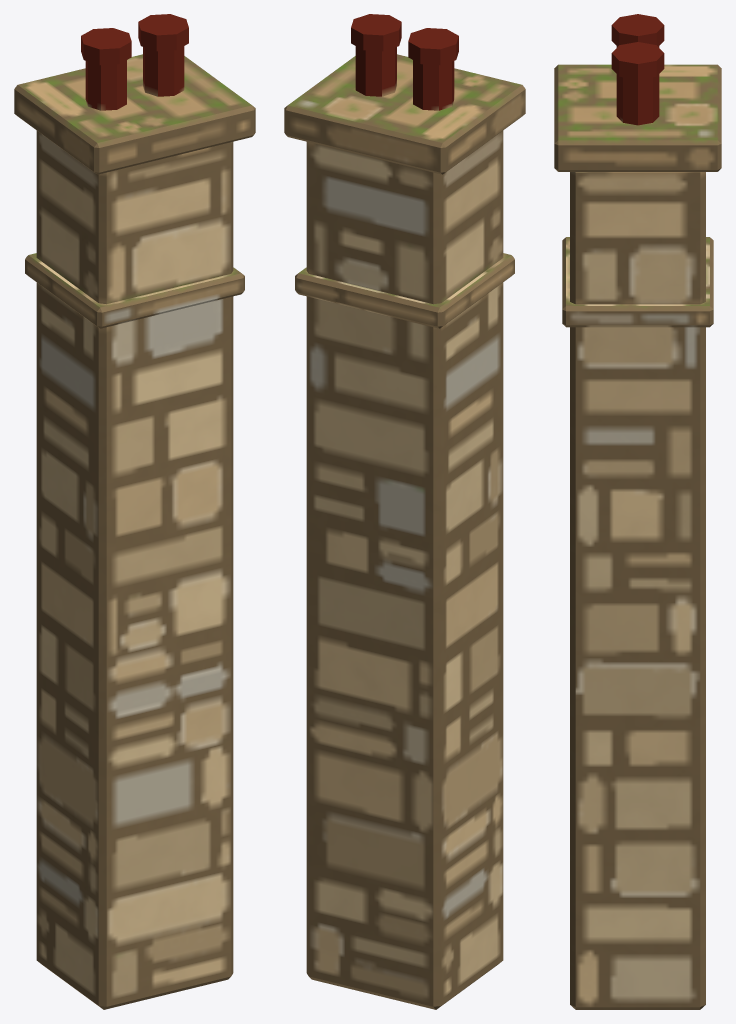
Rendered from Kit_House_Chimney.fbx.
The picture shows the model from 3 angles, left to right: view 1: azimuth 30°, elevation 25°; view 2: azimuth 150°, elevation 25°; view 3: azimuth 270°, elevation 25°; orthographic projection.
Visible parts, largest first — view 1: Kit_House_Chimney_LOD0; view 2: Kit_House_Chimney_LOD0; view 3: Kit_House_Chimney_LOD0.
Boxes of the visible parts, bbox=[...] form: Kit_House_Chimney_LOD0: bbox=[14, 14, 255, 1009]; Kit_House_Chimney_LOD0: bbox=[284, 14, 525, 1009]; Kit_House_Chimney_LOD0: bbox=[554, 14, 721, 1009].
Size of what is drawn, in the model's own units: 0.96 by 5.34 by 0.86.
Materials: 1 (1 with a texture image).
